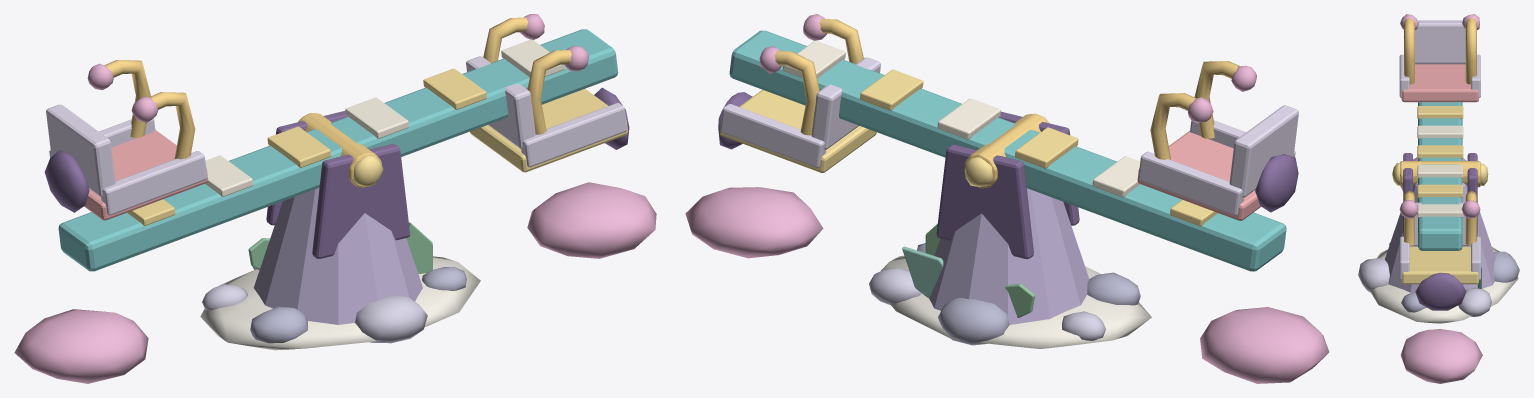
File: lagoon_play_seesaw.glb
The picture shows the model from 3 angles, left to right: view 1: azimuth 30°, elevation 25°; view 2: azimuth 150°, elevation 25°; view 3: azimuth 270°, elevation 25°; orthographic projection. The views are drawn at different scales.
Parts seen in each view (by area): view 1: lagoon_play_seesaw.001; view 2: lagoon_play_seesaw.001; view 3: lagoon_play_seesaw.001.
Boxes of the visible parts, <box> form: lagoon_play_seesaw.001: <box>14,14,656,383</box>; lagoon_play_seesaw.001: <box>685,14,1329,383</box>; lagoon_play_seesaw.001: <box>1358,14,1519,383</box>.
Bounding box in the file's own units: 8.24 × 3.6 × 2.61.
